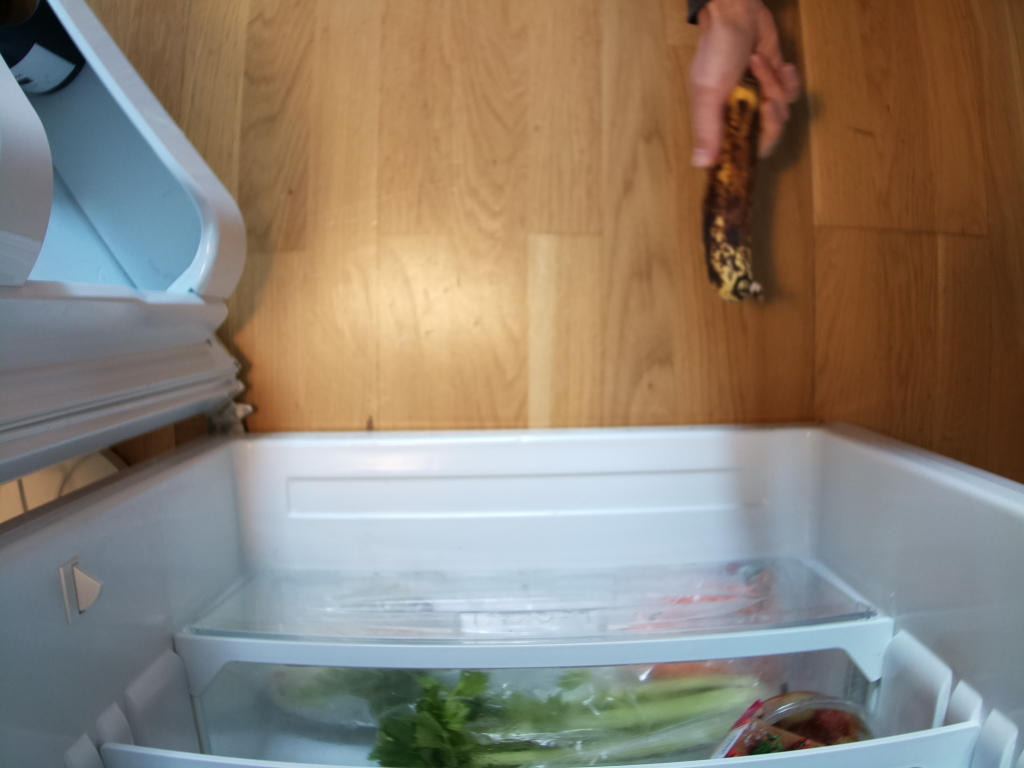banana-overripe: (703, 84, 770, 303)
